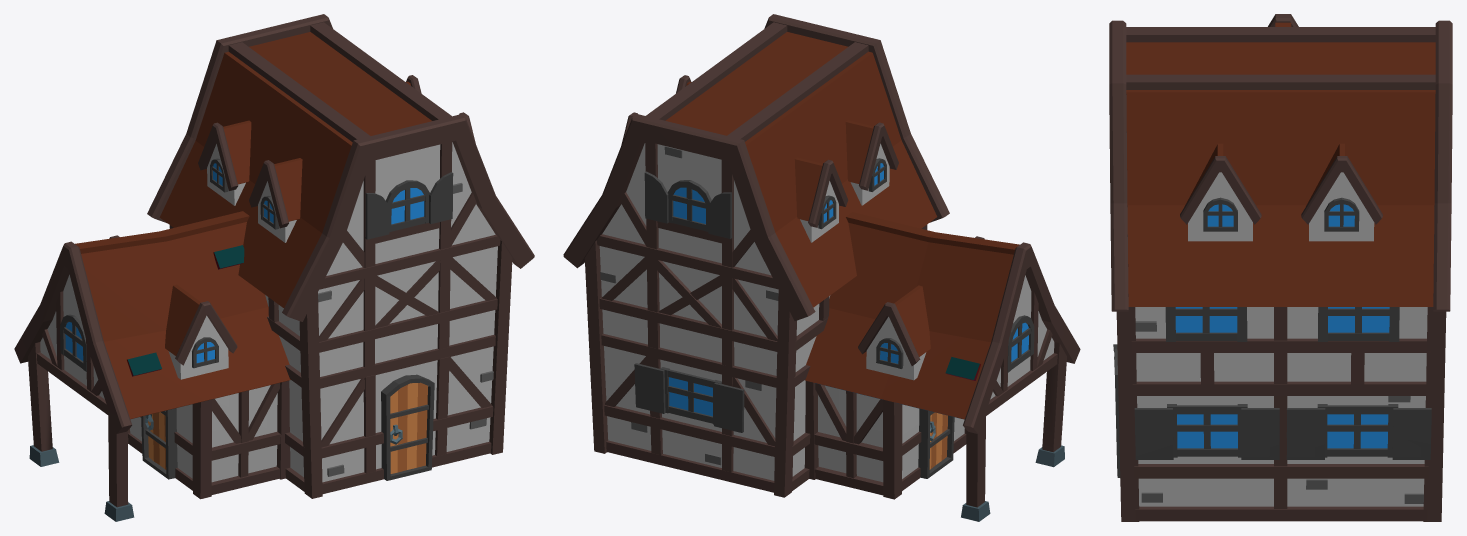
The model's file is House_4-3.fbx.
The picture shows the model from 3 angles, left to right: view 1: azimuth 30°, elevation 25°; view 2: azimuth 150°, elevation 25°; view 3: azimuth 270°, elevation 25°; orthographic projection. The views are drawn at different scales.
Visible parts, largest first — view 1: Town_BG_Bd_House06_A.003; view 2: Town_BG_Bd_House06_A.003; view 3: Town_BG_Bd_House06_A.003.
Part boxes in pixels (box(x1,y1,x2,y2)): Town_BG_Bd_House06_A.003: box(14, 14, 534, 521); Town_BG_Bd_House06_A.003: box(563, 14, 1080, 521); Town_BG_Bd_House06_A.003: box(1109, 14, 1452, 521).
Bounding box in the file's own units: 896 × 748 × 562.
